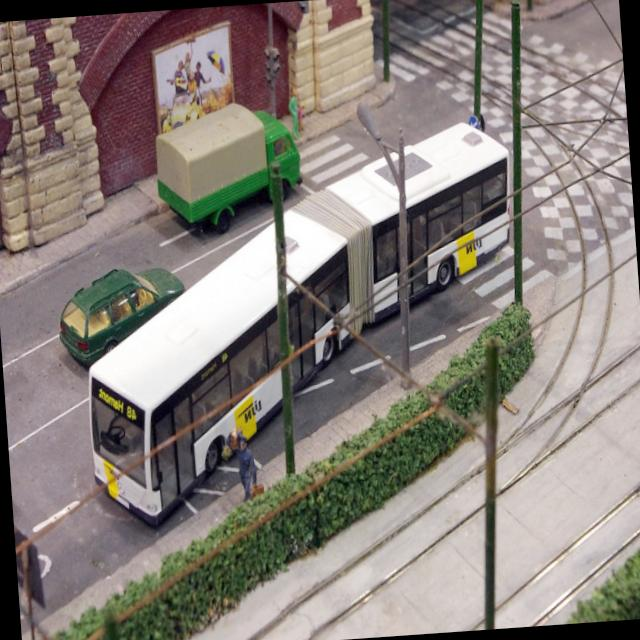bus-number: (126, 406, 138, 422)
